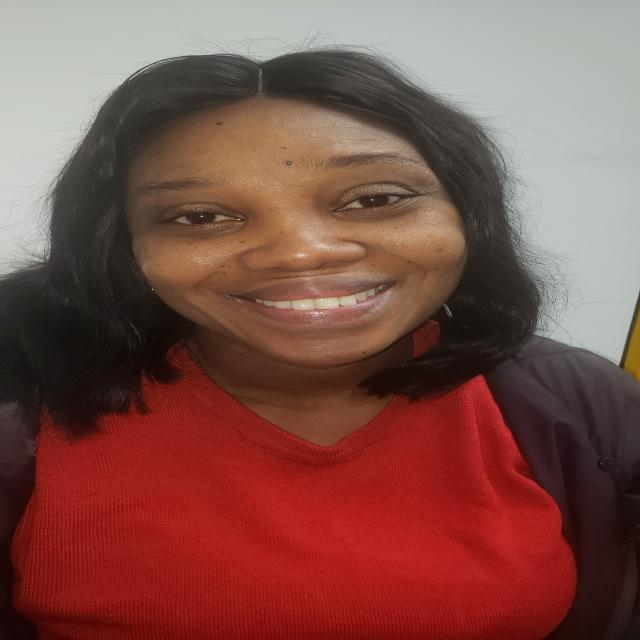happy: (90, 89, 477, 370)
